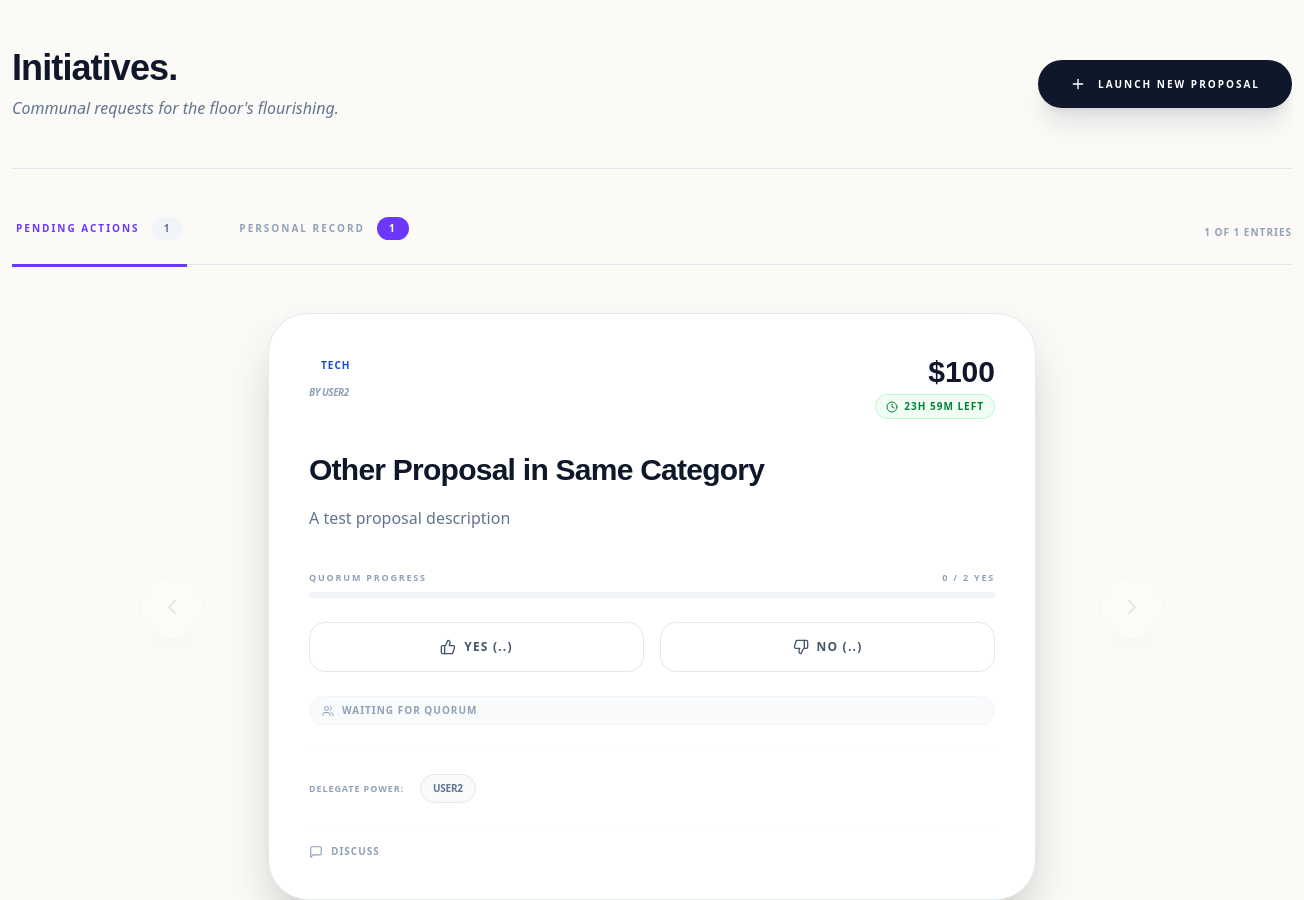
Scenario: ProposalsList Component — Tab Navigation & Swipe-to-Dismiss › moves a proposal to My Votes when voted on
This screenshot has width=1304, height=900.
expect the text "1 of 1 Entries" is shown: met, box [1204, 225, 1292, 239]
expect the heading "Other Proposal in Same Category" is shown: met, box [309, 453, 764, 486]
# Switch to My Votes tab
Click the button "Personal Record 1": click(324, 242) [235, 217, 413, 267]
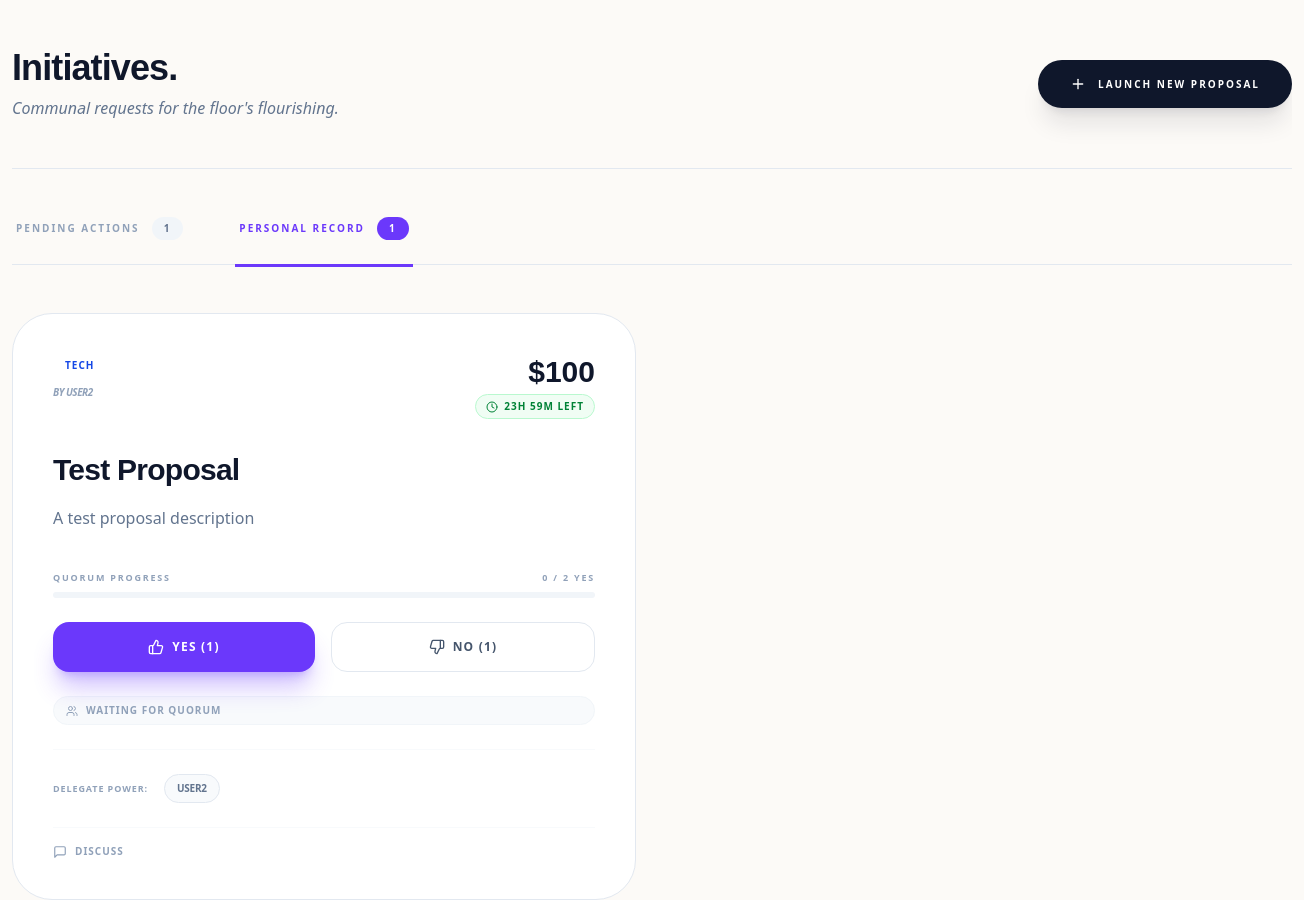
expect the heading "Test Proposal" is shown: met, box [53, 453, 239, 486]
